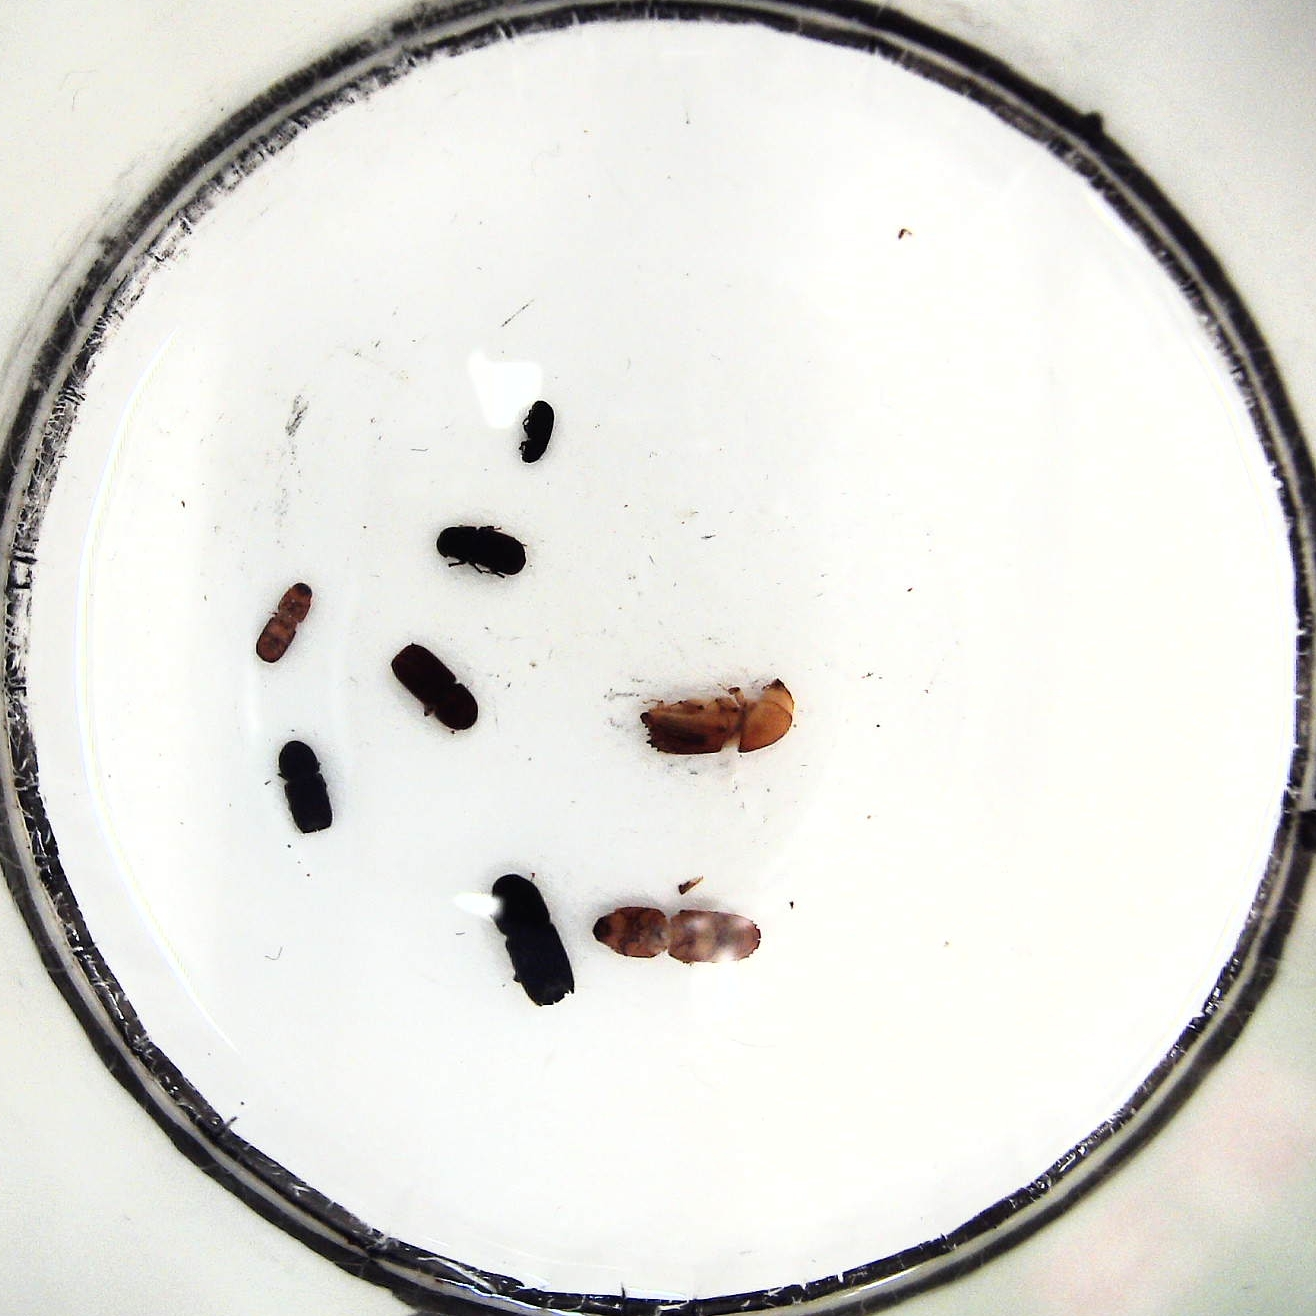Boerner: (487, 869, 578, 1014), (641, 678, 797, 759), (586, 906, 768, 969)
Linnaeus: (392, 642, 481, 734), (276, 732, 335, 841)
acuminatus: (253, 577, 317, 669)
armandi: (433, 515, 525, 582)
coleoptera: (515, 398, 558, 468)
